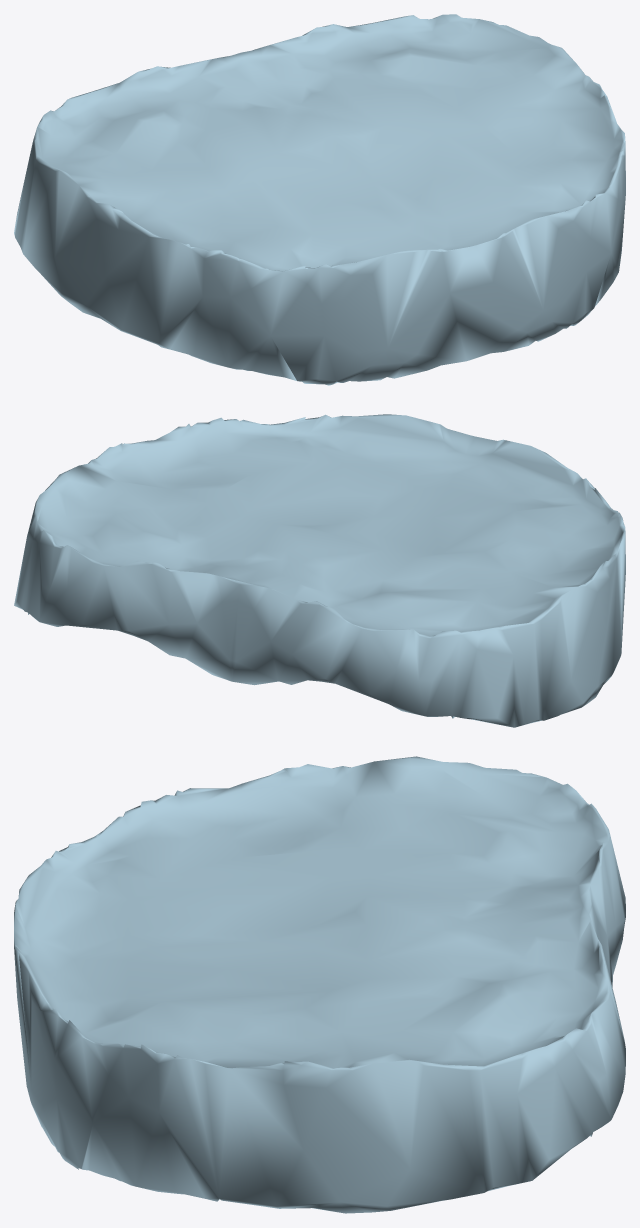
File: articulacoes-intervertebral-disc-l3-l4.glb
3 views of the same model, one above another, from view 1: azimuth 30°, elevation 25°; view 2: azimuth 150°, elevation 25°; view 3: azimuth 270°, elevation 25° (orthographic). The views are drawn at different scales.
Visible parts, largest first — view 1: Intervertebral disc L3-L4; view 2: Intervertebral disc L3-L4; view 3: Intervertebral disc L3-L4.
Boxes of the visible parts, box(x1,y1,x2,y2) form: Intervertebral disc L3-L4: box(14, 14, 625, 385); Intervertebral disc L3-L4: box(14, 414, 625, 727); Intervertebral disc L3-L4: box(14, 756, 625, 1213).
Size of the model in its own units: 0.0461 by 0.0128 by 0.0376.
